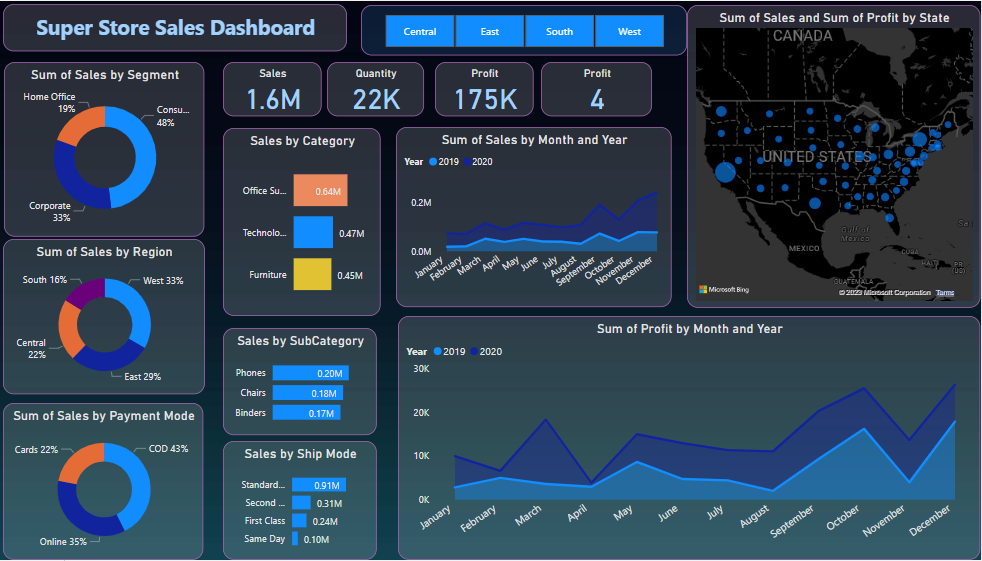

The page's visual inventory and layout, read from the dashboard file:
{"tool":"powerbi","page":{"name":"Page 1","canvas":[1280,720],"ordinal":0},"visuals":[{"type":"clusteredBarChart","title":"Sales by Category","fields":{"Category":["SuperStore_Sales_Dataset.Category"],"Y":["Sum(SuperStore_Sales_Dataset.Sales)"]},"box":[303.3,163.3,203.3,241.7],"z":0},{"type":"clusteredBarChart","title":"Sales by SubCategory","fields":{"Category":["SuperStore_Sales_Dataset.Sub-Category"],"Y":["Sum(SuperStore_Sales_Dataset.Sales)"]},"box":[303.3,421.7,198.3,138.3],"z":1000},{"type":"stackedAreaChart","fields":{"Y":["Sum(SuperStore_Sales_Dataset.Sales)"],"Category":["SuperStore_Sales_Dataset.Order Date.Variation.Date Hierarchy.Month","SuperStore_Sales_Dataset.Order Date.Variation.Date Hierarchy.Day"],"Series":["SuperStore_Sales_Dataset.Order Date.Variation.Date Hierarchy.Year"]},"box":[526.2,162.7,355,232],"z":2000},{"type":"stackedAreaChart","fields":{"Category":["SuperStore_Sales_Dataset.Order Date.Variation.Date Hierarchy.Month","SuperStore_Sales_Dataset.Order Date.Variation.Date Hierarchy.Day"],"Series":["SuperStore_Sales_Dataset.Order Date.Variation.Date Hierarchy.Year"],"Y":["Sum(SuperStore_Sales_Dataset.Profit)"]},"box":[529,406,749.7,314],"z":3000},{"type":"map","fields":{"Category":["SuperStore_Sales_Dataset.State"],"Size":["Sum(SuperStore_Sales_Dataset.Sales)"]},"box":[901.7,5,378.3,390],"z":4000},{"type":"clusteredBarChart","title":"Sales by Ship Mode","fields":{"Category":["SuperStore_Sales_Dataset.Ship Mode","SuperStore_Sales_Dataset.Category"],"Y":["Sum(SuperStore_Sales_Dataset.Sales)"]},"box":[303.3,566.7,198.3,153.3],"z":5000},{"type":"donutChart","fields":{"Category":["SuperStore_Sales_Dataset.Segment"],"Y":["Sum(SuperStore_Sales_Dataset.Sales)"]},"box":[21.7,78.3,258.3,225],"z":6000},{"type":"donutChart","fields":{"Category":["SuperStore_Sales_Dataset.Region"],"Y":["Sum(SuperStore_Sales_Dataset.Sales)"]},"box":[20,306.7,260,200],"z":7000},{"type":"donutChart","fields":{"Category":["SuperStore_Sales_Dataset.Payment Mode"],"Y":["Sum(SuperStore_Sales_Dataset.Sales)"]},"box":[20,518.3,258.3,201.7],"z":8000},{"type":"slicer","fields":{"Values":["SuperStore_Sales_Dataset.Region"]},"box":[481.7,5,420,65],"z":9000},{"type":"textbox","box":[21.2,4.2,442.8,60.8],"z":10000},{"type":"card","title":"Sales","fields":{"Values":["Sum(SuperStore_Sales_Dataset.Sales)"]},"box":[303.3,78.3,126.7,70],"z":11000},{"type":"card","title":"Quantity","fields":{"Values":["Sum(SuperStore_Sales_Dataset.Quantity)"]},"box":[438.3,78.3,125,70],"z":12000},{"type":"card","title":"Profit","fields":{"Values":["Sum(SuperStore_Sales_Dataset.Profit)"]},"box":[576.7,78.3,126.7,70],"z":13000},{"type":"card","title":"Profit","fields":{"Values":["Avg(SuperStore_Sales_Dataset.AvgDelivery)"]},"box":[713.3,78.3,143.3,70],"z":14000}]}

Visuals, with their boxes in screenshot pixels (x1, y1, x2, y2), scaled from the page's 1280x720 canvas onto the 982x561 screenshot:
"Sales by Category" clusteredBarChart: select_region(233, 127, 389, 316)
"Sales by SubCategory" clusteredBarChart: select_region(233, 329, 385, 436)
stackedAreaChart - Sum(SuperStore_Sales_Dataset.Sales) x SuperStore_Sales_Dataset.Order Date.Variation.Date Hierarchy.Month: select_region(404, 127, 676, 308)
stackedAreaChart - SuperStore_Sales_Dataset.Order Date.Variation.Date Hierarchy.Month x SuperStore_Sales_Dataset.Order Date.Variation.Date Hierarchy.Day: select_region(406, 316, 981, 560)
map - SuperStore_Sales_Dataset.State x Sum(SuperStore_Sales_Dataset.Sales): select_region(692, 4, 981, 308)
"Sales by Ship Mode" clusteredBarChart: select_region(233, 442, 385, 560)
donutChart - SuperStore_Sales_Dataset.Segment x Sum(SuperStore_Sales_Dataset.Sales): select_region(17, 61, 215, 236)
donutChart - SuperStore_Sales_Dataset.Region x Sum(SuperStore_Sales_Dataset.Sales): select_region(15, 239, 215, 395)
donutChart - SuperStore_Sales_Dataset.Payment Mode x Sum(SuperStore_Sales_Dataset.Sales): select_region(15, 404, 214, 560)
slicer - SuperStore_Sales_Dataset.Region: select_region(370, 4, 692, 55)
textbox: select_region(16, 3, 356, 51)
"Sales" card: select_region(233, 61, 330, 116)
"Quantity" card: select_region(336, 61, 432, 116)
"Profit" card: select_region(442, 61, 540, 116)
"Profit" card: select_region(547, 61, 657, 116)
